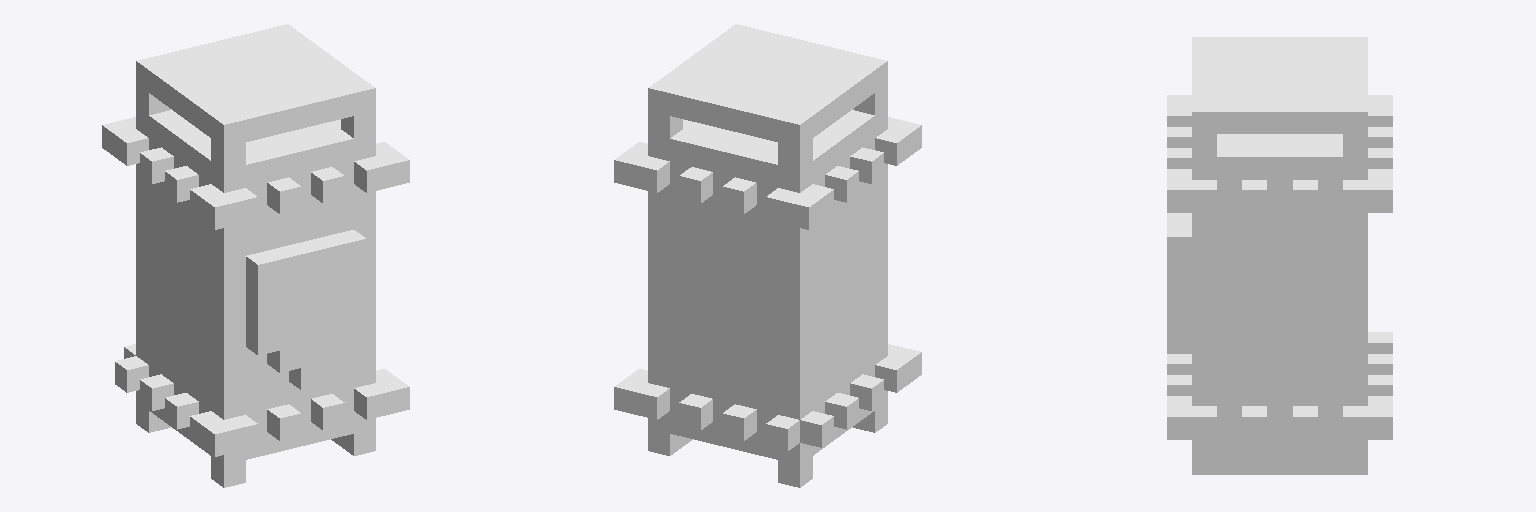
The model's file is WallCurved_Middle2.obj.
3 renders of one model, left to right at view 1: azimuth 30°, elevation 25°; view 2: azimuth 150°, elevation 25°; view 3: azimuth 270°, elevation 25°, orthographic.
Parts seen in each view (by area): view 1: WallCurved_Middle2; view 2: WallCurved_Middle2; view 3: WallCurved_Middle2.
Boxes of the visible parts, <box> form: WallCurved_Middle2: <box>102,24,409,487</box>; WallCurved_Middle2: <box>614,24,921,487</box>; WallCurved_Middle2: <box>1167,37,1392,474</box>.
Size of the model in its own units: 9 by 16 by 9.